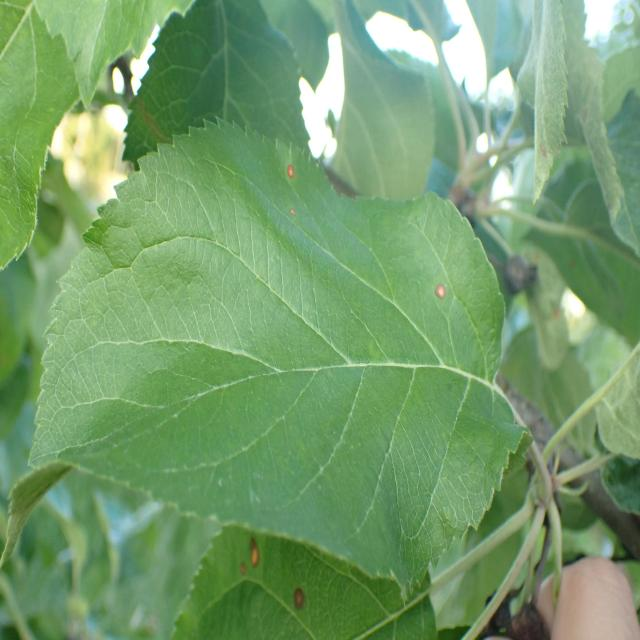Black Rot: (234, 519, 274, 602), (281, 566, 317, 640), (421, 266, 456, 314), (280, 139, 300, 186), (275, 202, 308, 230)
